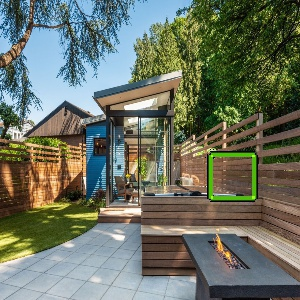square: (205, 148, 260, 204)
